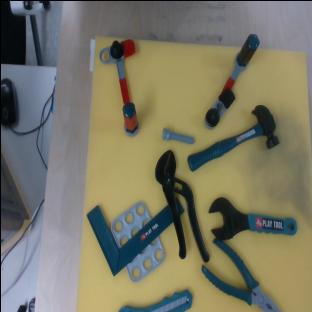non_pass: (200, 28, 261, 131)
pass: (98, 38, 138, 136)
